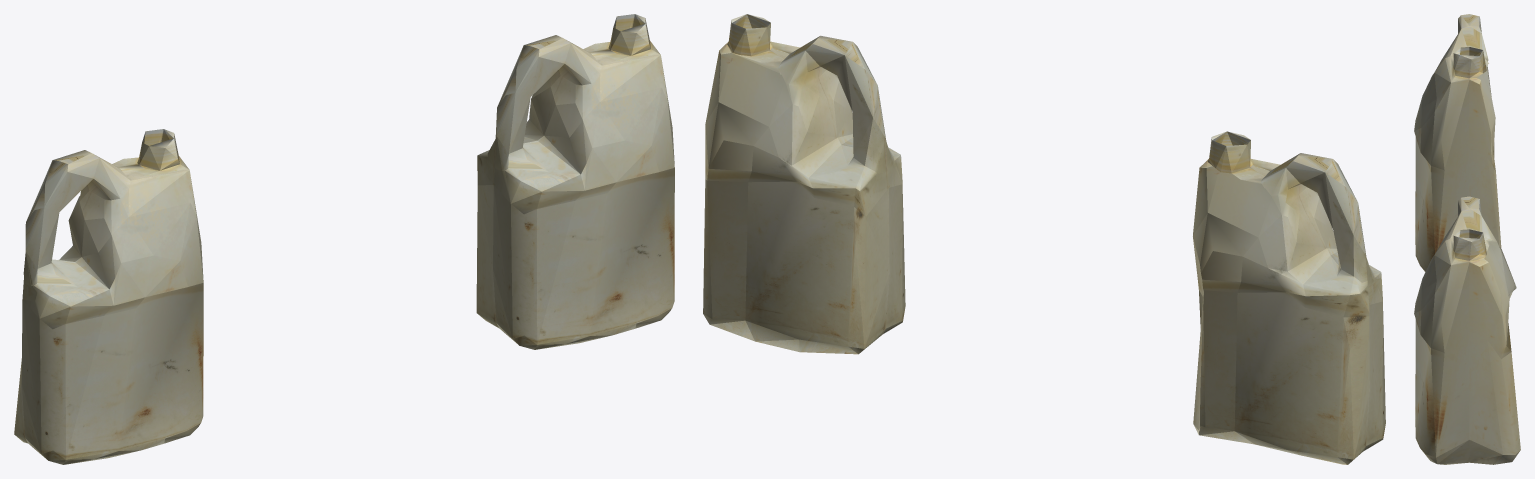
File: suliao1.fbx
3 renders of one model, left to right at view 1: azimuth 30°, elevation 25°; view 2: azimuth 150°, elevation 25°; view 3: azimuth 270°, elevation 25°, orthographic. The views are drawn at different scales.
Visible parts, largest first — view 1: plastic_bottle_gallon1, plastic_bottle_gallon2; view 2: plastic_bottle_gallon1, plastic_bottle_gallon2; view 3: plastic_bottle_gallon1, plastic_bottle_gallon2.
Boxes of the visible parts, x1,y1,x2,y2 form: plastic_bottle_gallon1: [476, 14, 674, 349]; plastic_bottle_gallon2: [14, 129, 203, 464]; plastic_bottle_gallon1: [703, 14, 905, 354]; plastic_bottle_gallon2: [1193, 131, 1385, 464]; plastic_bottle_gallon1: [1414, 196, 1520, 464]; plastic_bottle_gallon2: [1414, 14, 1501, 271].
Bounding box in the file's own units: 63.8 × 27.38 × 11.73.
